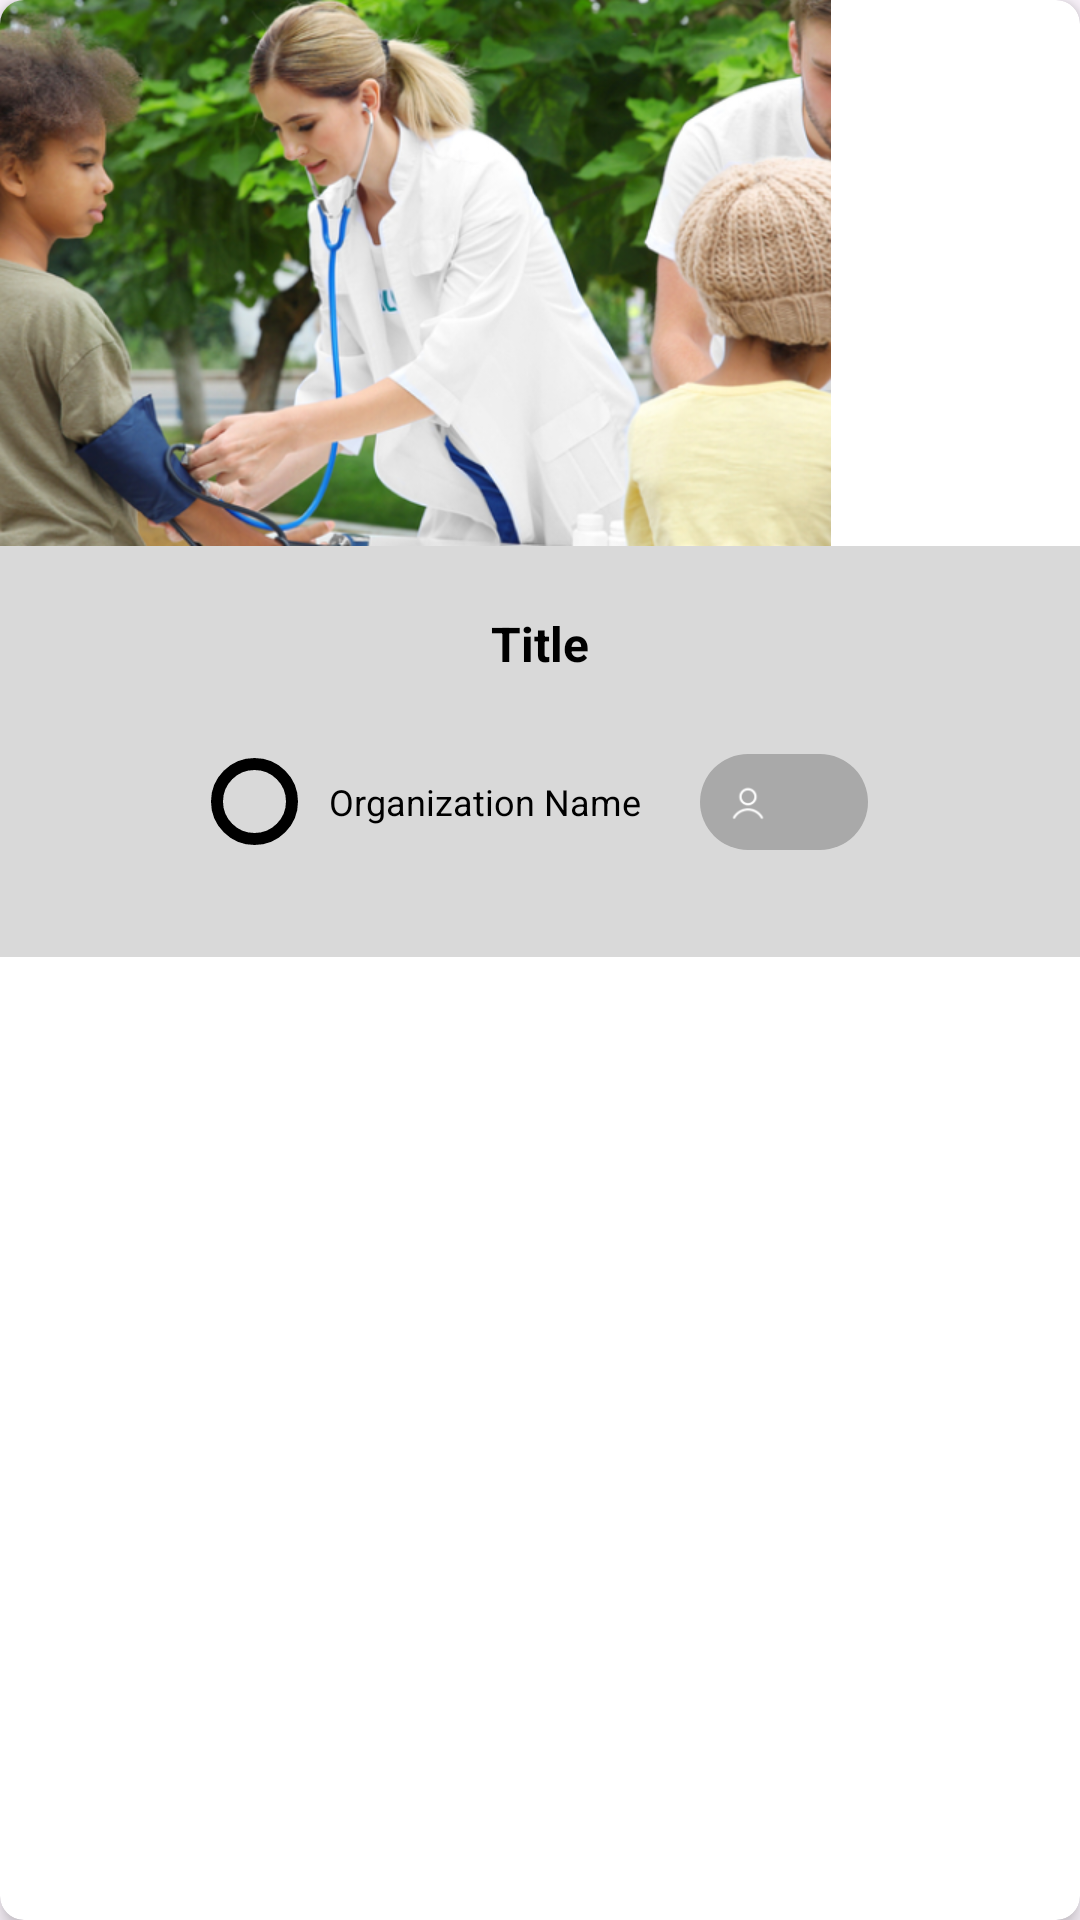

Icons on this 1080 × 1920 Android screen, each with its box as (x1, y1, x2, y2):
person: (733, 788, 763, 819)
